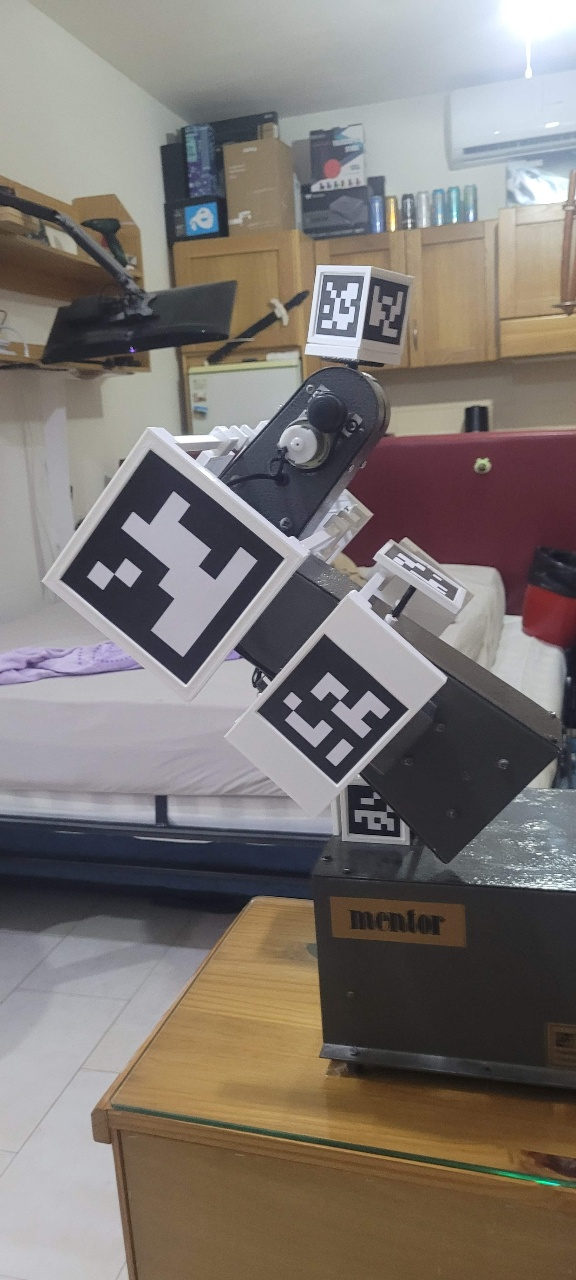Robot: (30, 335, 401, 1023)
